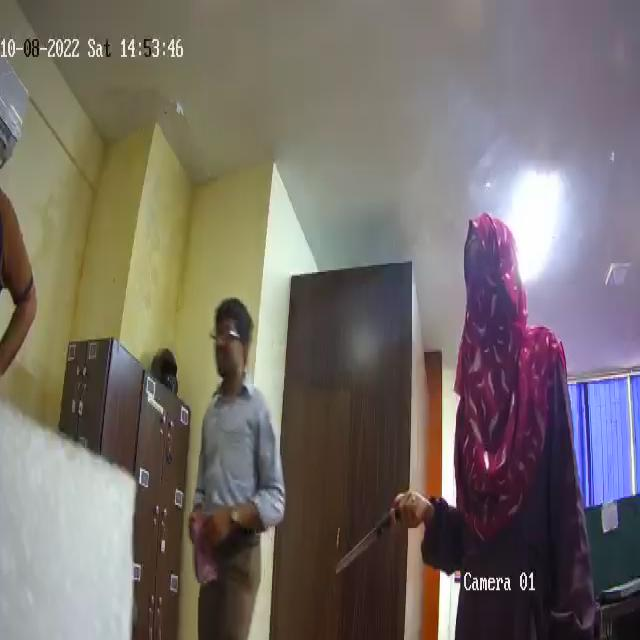Knife: (336, 496, 413, 576)
